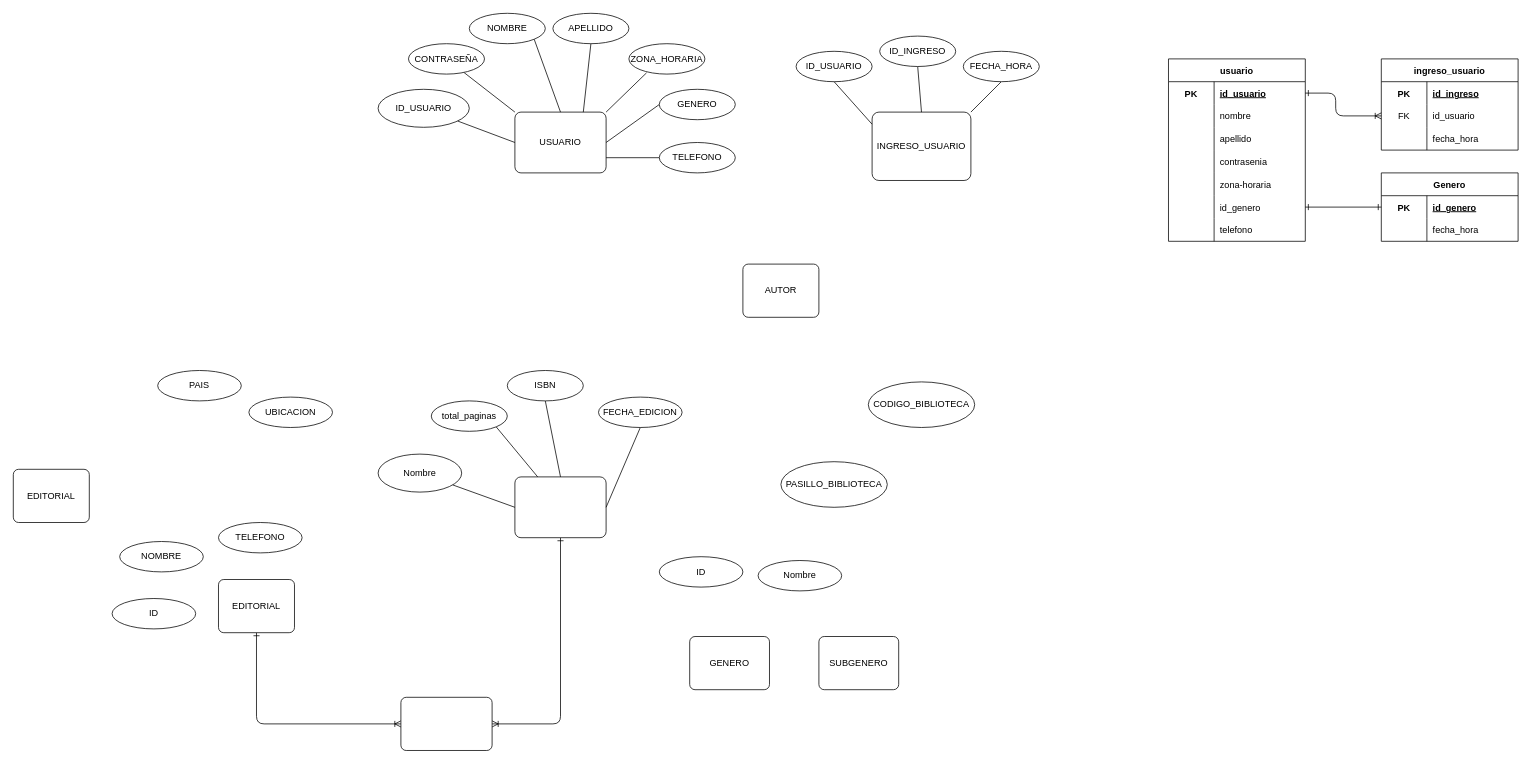
Some shapes in this 1531 by 764 pixel diagram are drawn without their labels. The centre of each missing label's shape, as x and y in pixels:
LIBRO: the point at 560,507
LIBRO_EDITORIAL: the point at 446,723
